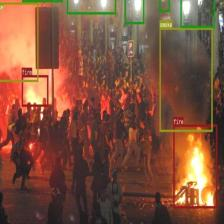fire: (173, 124, 217, 208), (21, 75, 48, 106)
smoke: (160, 27, 212, 132), (0, 1, 38, 81)
